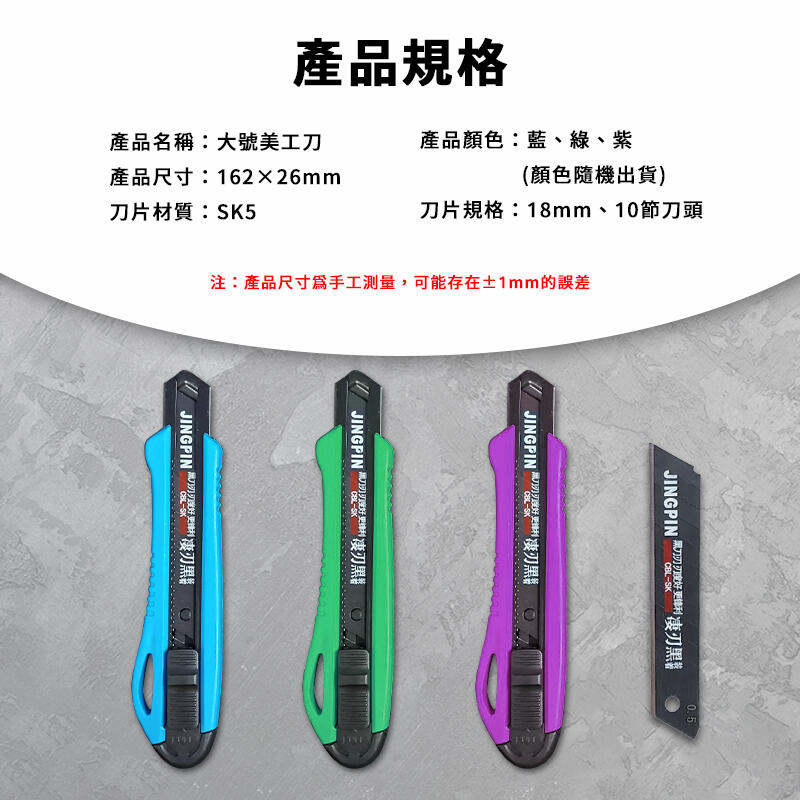cutter: (299, 367, 397, 772), (129, 368, 224, 770), (476, 367, 570, 772), (647, 443, 702, 741)
